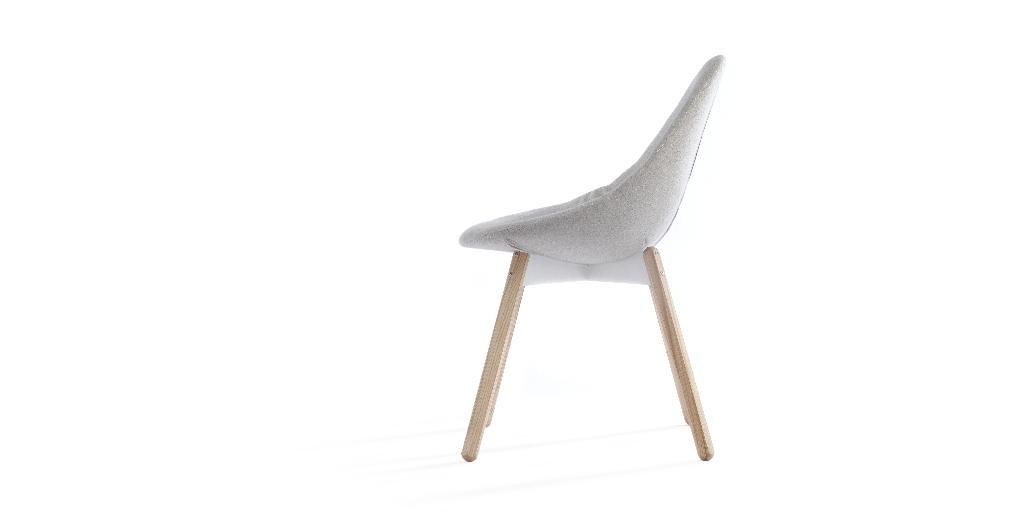Chair: (440, 35, 750, 470)
